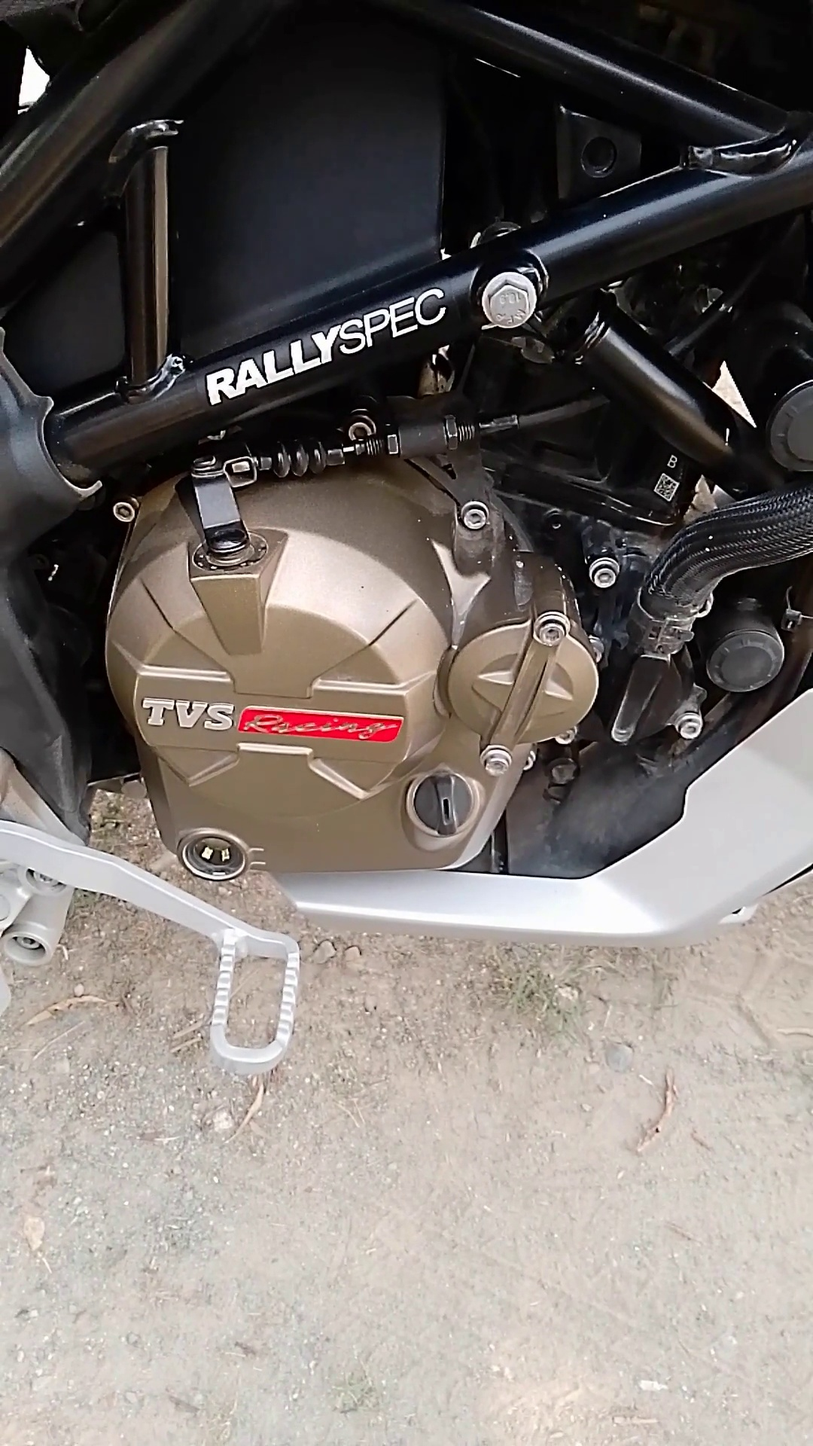engine: (68, 83, 655, 926)
oil_cap: (388, 742, 489, 859)
oil_marker: (173, 795, 286, 892)
